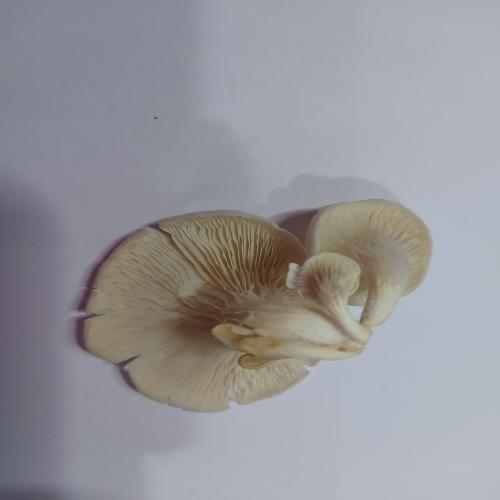Oyster Mushroom: (81, 198, 433, 413)
